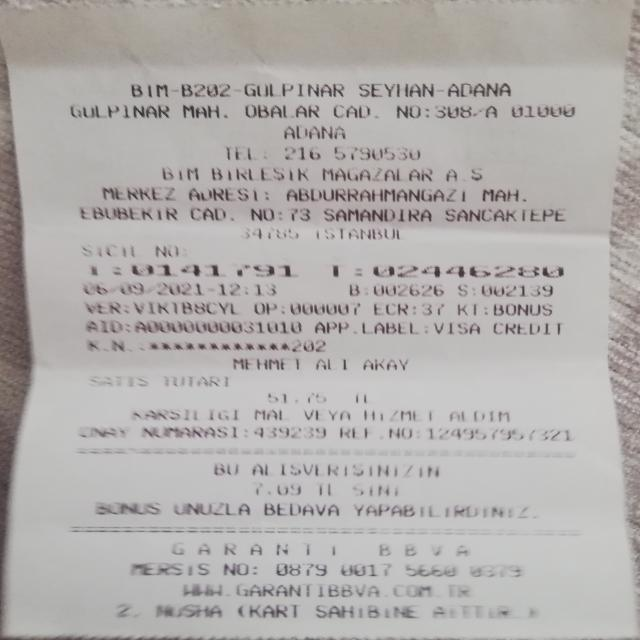text: (235, 582, 468, 598), (372, 261, 561, 280), (286, 185, 474, 204), (354, 500, 526, 520), (128, 260, 291, 280), (250, 460, 431, 478), (167, 540, 343, 558), (135, 319, 303, 335), (446, 205, 566, 225), (426, 426, 575, 442), (323, 164, 431, 184), (324, 204, 432, 224), (247, 80, 345, 100), (209, 163, 307, 183), (80, 203, 176, 223), (69, 101, 169, 120), (377, 540, 472, 558), (134, 406, 238, 421), (334, 144, 420, 162), (173, 498, 250, 518), (131, 560, 212, 579), (145, 424, 240, 440), (264, 499, 339, 519), (318, 604, 418, 619), (133, 300, 238, 314), (317, 225, 407, 241), (359, 80, 430, 100), (245, 101, 319, 120), (431, 604, 515, 620), (102, 184, 174, 202), (188, 184, 256, 203), (449, 79, 511, 99), (91, 500, 163, 517), (493, 320, 560, 337), (256, 425, 327, 441), (509, 104, 578, 120), (180, 80, 232, 100), (480, 284, 554, 298), (371, 282, 444, 296), (363, 408, 436, 422), (290, 301, 362, 315), (220, 280, 275, 298), (84, 373, 150, 388), (403, 562, 461, 579), (233, 356, 298, 371), (157, 603, 222, 618), (492, 301, 552, 317), (164, 373, 228, 388), (364, 319, 420, 336), (448, 408, 510, 423), (80, 281, 146, 295), (284, 124, 345, 139), (81, 242, 135, 258), (467, 563, 524, 578), (336, 562, 392, 577), (275, 561, 327, 577), (242, 225, 296, 240), (160, 280, 204, 298), (248, 604, 304, 618), (128, 80, 167, 100), (265, 391, 323, 404), (181, 582, 228, 598), (446, 164, 482, 184), (436, 319, 478, 336), (350, 482, 401, 496), (363, 356, 407, 372), (159, 163, 196, 182), (256, 481, 301, 496), (333, 101, 368, 120), (190, 204, 223, 224), (284, 144, 320, 162), (77, 426, 130, 438), (483, 186, 518, 204), (182, 101, 215, 120), (436, 101, 469, 120), (225, 144, 257, 162), (84, 299, 120, 315), (316, 318, 348, 336), (369, 301, 408, 315), (86, 318, 120, 334), (88, 337, 124, 352), (314, 357, 349, 372), (291, 337, 325, 352), (337, 426, 372, 440), (396, 101, 419, 120), (251, 204, 272, 224), (289, 204, 310, 224), (311, 480, 335, 497), (213, 460, 238, 476), (224, 560, 248, 576), (154, 243, 179, 258), (254, 407, 280, 421), (387, 426, 412, 440), (83, 261, 104, 277), (324, 262, 348, 276), (116, 603, 136, 618), (424, 301, 442, 317), (257, 300, 274, 316), (351, 391, 371, 403), (458, 302, 475, 316), (306, 408, 322, 422), (331, 408, 348, 421), (348, 282, 360, 298), (172, 80, 181, 100), (483, 105, 498, 117), (356, 261, 365, 280), (458, 282, 466, 299), (353, 319, 361, 336), (220, 101, 227, 120), (438, 79, 444, 99), (278, 204, 284, 224), (372, 101, 378, 120), (426, 101, 432, 120), (228, 204, 234, 223), (280, 300, 287, 316), (240, 604, 248, 618), (243, 425, 250, 440), (474, 282, 480, 299), (366, 282, 372, 298), (125, 318, 131, 334), (251, 561, 256, 577), (414, 301, 418, 316), (265, 185, 268, 203), (522, 186, 525, 204), (484, 302, 486, 316)
